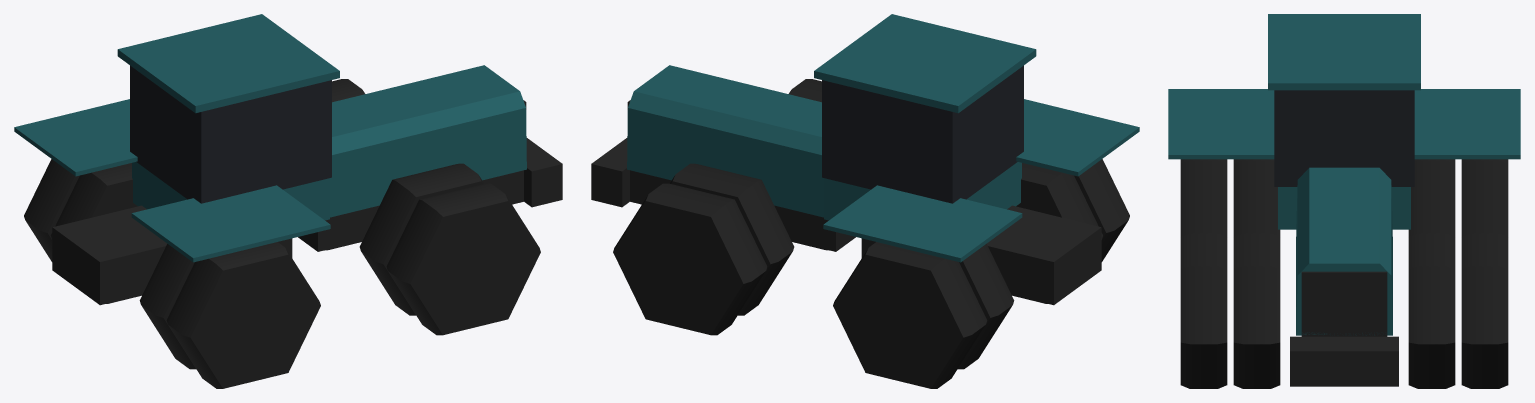
File: SM_Prop_farm_tractor4wd_0_LOD2.glb
The picture shows the model from 3 angles, left to right: view 1: azimuth 30°, elevation 25°; view 2: azimuth 150°, elevation 25°; view 3: azimuth 270°, elevation 25°; orthographic projection.
Visible parts, largest first — view 1: SM_Prop_farm_tractor4wd_0_LOD2; view 2: SM_Prop_farm_tractor4wd_0_LOD2; view 3: SM_Prop_farm_tractor4wd_0_LOD2.
Part boxes in pixels (left/top/right/bottom): SM_Prop_farm_tractor4wd_0_LOD2: left=14, top=14, right=562, bottom=388; SM_Prop_farm_tractor4wd_0_LOD2: left=591, top=14, right=1139, bottom=388; SM_Prop_farm_tractor4wd_0_LOD2: left=1168, top=14, right=1520, bottom=388.
Size of the model in its own units: 6.67 by 3.47 by 4.51.
